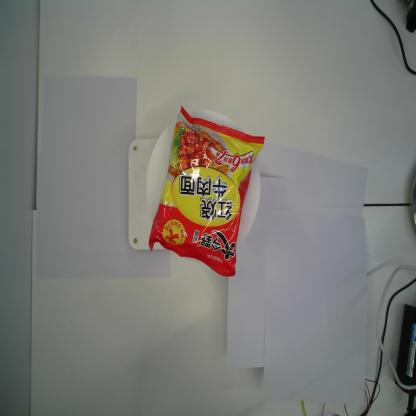Instant Noodles: (148, 105, 265, 277)
